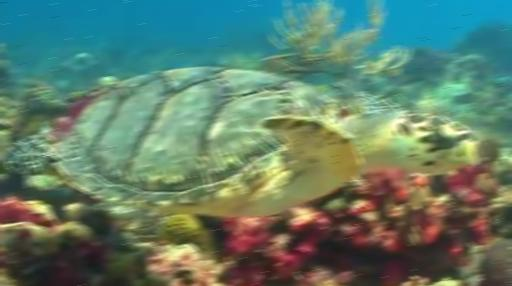Fish: (4, 67, 481, 215)
